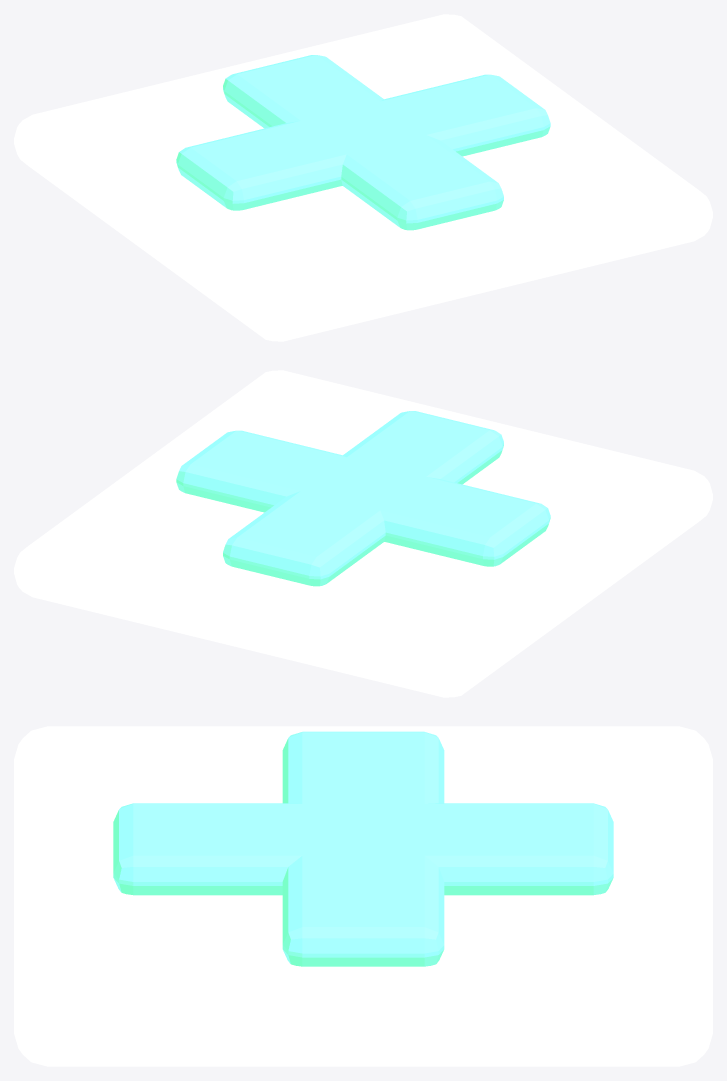
Rendered from heal.glb.
The picture shows the model from 3 angles, top to bottom: view 1: azimuth 30°, elevation 25°; view 2: azimuth 150°, elevation 25°; view 3: azimuth 270°, elevation 25°; orthographic projection. The views are drawn at different scales.
Visible parts, largest first — view 1: Plate, CrossV, CrossH; view 2: Plate, CrossV, CrossH; view 3: Plate, CrossV, CrossH.
Part boxes in pixels (left/top/right/bottom): Plate: left=14, top=14, right=712, bottom=341; CrossV: left=223, top=55, right=503, bottom=230; CrossH: left=176, top=74, right=550, bottom=210; Plate: left=14, top=370, right=712, bottom=697; CrossV: left=223, top=411, right=503, bottom=586; CrossH: left=176, top=430, right=550, bottom=566; Plate: left=14, top=726, right=712, bottom=1066; CrossV: left=113, top=803, right=613, bottom=895; CrossH: left=282, top=731, right=444, bottom=966.
Size of the model in its own units: 0.95 by 0.15 by 0.95.
